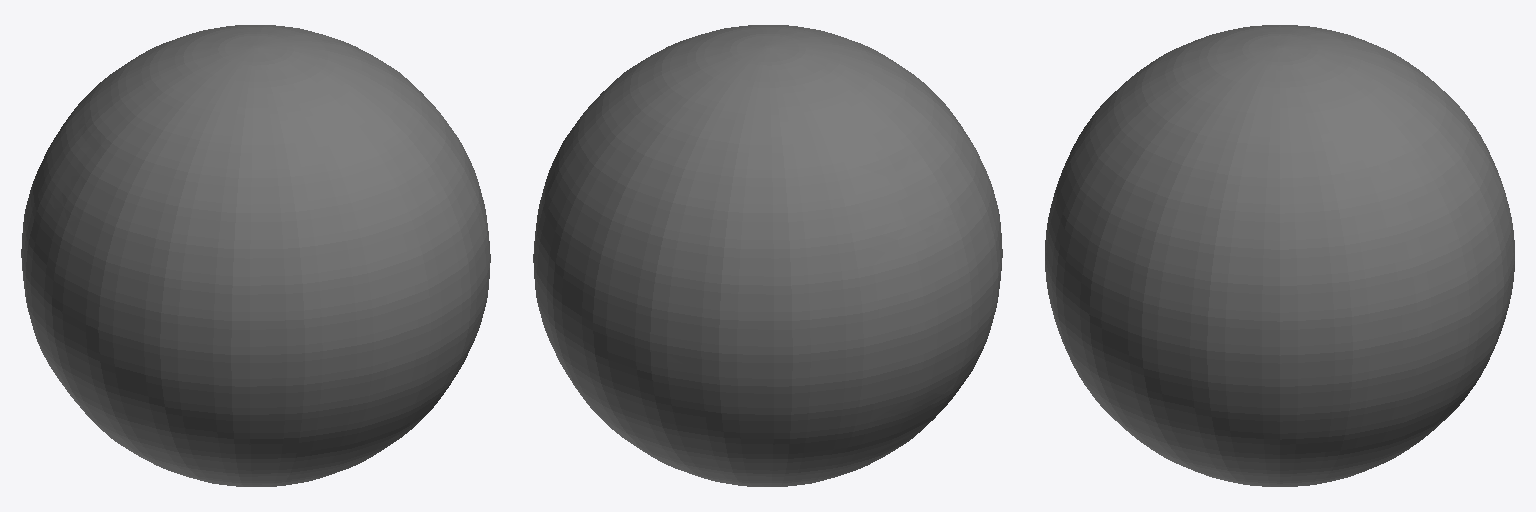
Rendered from Neptune.obj.
The picture shows the model from 3 angles: view 1: azimuth 30°, elevation 25°; view 2: azimuth 150°, elevation 25°; view 3: azimuth 270°, elevation 25°; orthographic projection.
Parts seen in each view (by area): view 1: Neptune; view 2: Neptune; view 3: Neptune.
Part boxes in pixels (left/top/right/bottom): Neptune: left=21, top=25, right=490, bottom=486; Neptune: left=533, top=25, right=1002, bottom=486; Neptune: left=1045, top=25, right=1514, bottom=486.
Bounding box in the file's own units: 96.58 × 94.7 × 96.58.